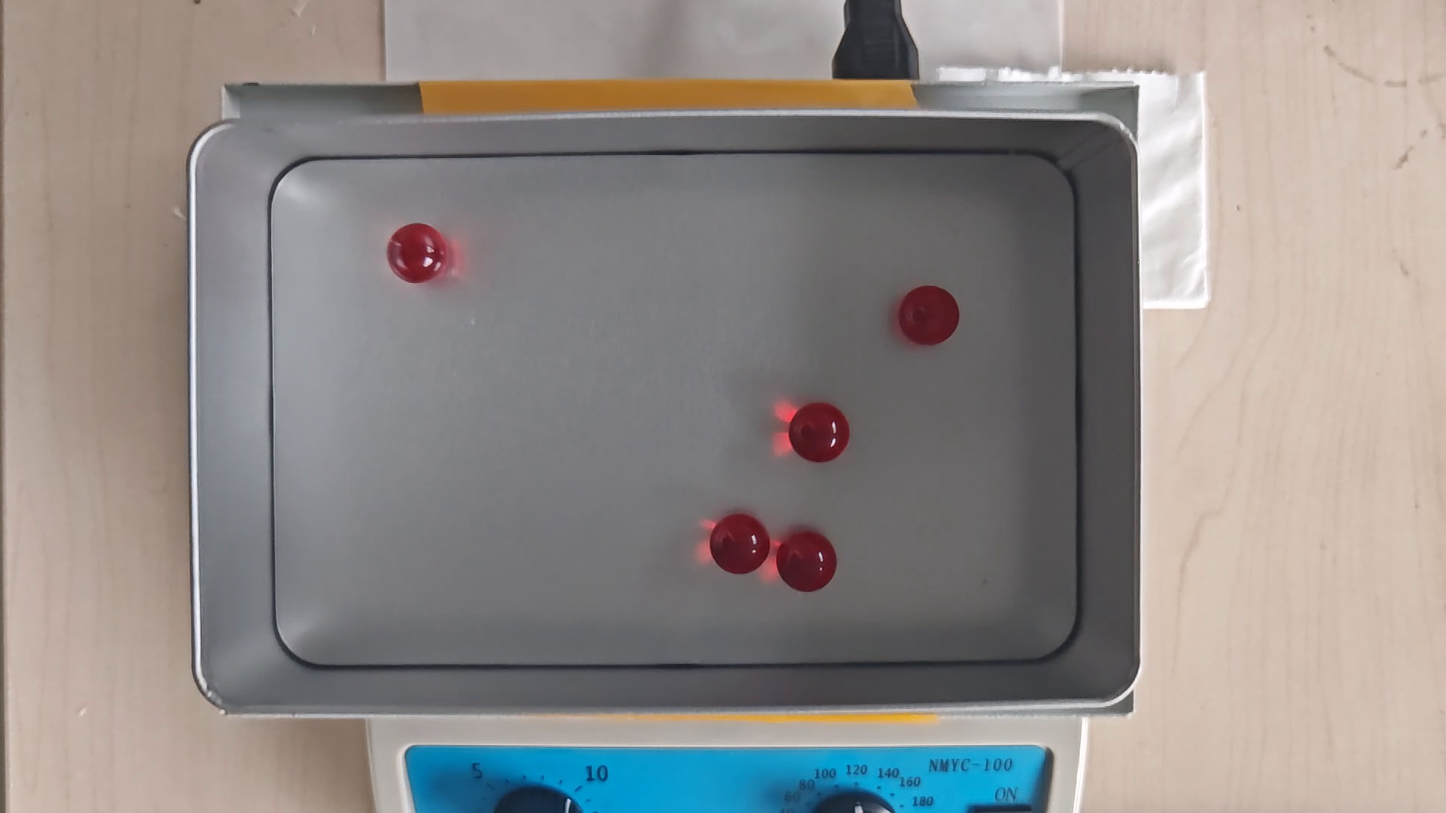ball: (386, 224, 450, 284), (789, 402, 851, 463), (709, 513, 770, 575), (898, 286, 959, 346), (777, 531, 837, 592)
container: (272, 152, 1078, 666)
